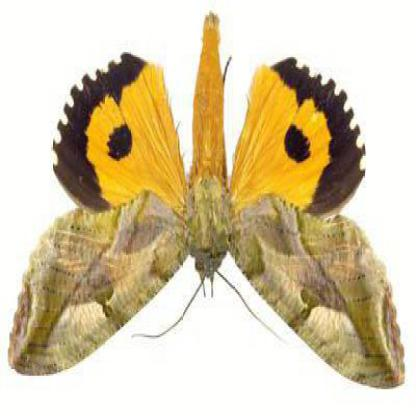fruit sucking moth: (9, 16, 407, 392)
